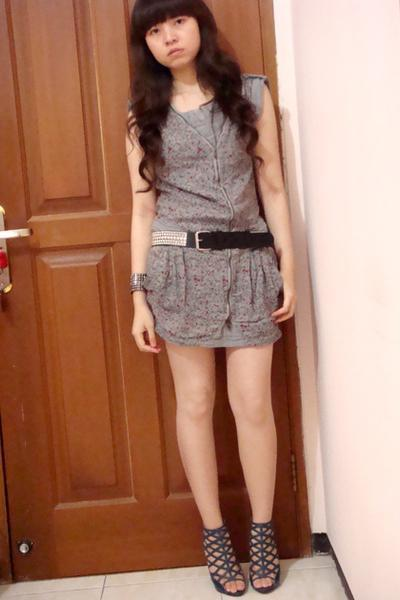dress: (133, 78, 288, 347)
shoe: (202, 512, 280, 596)
